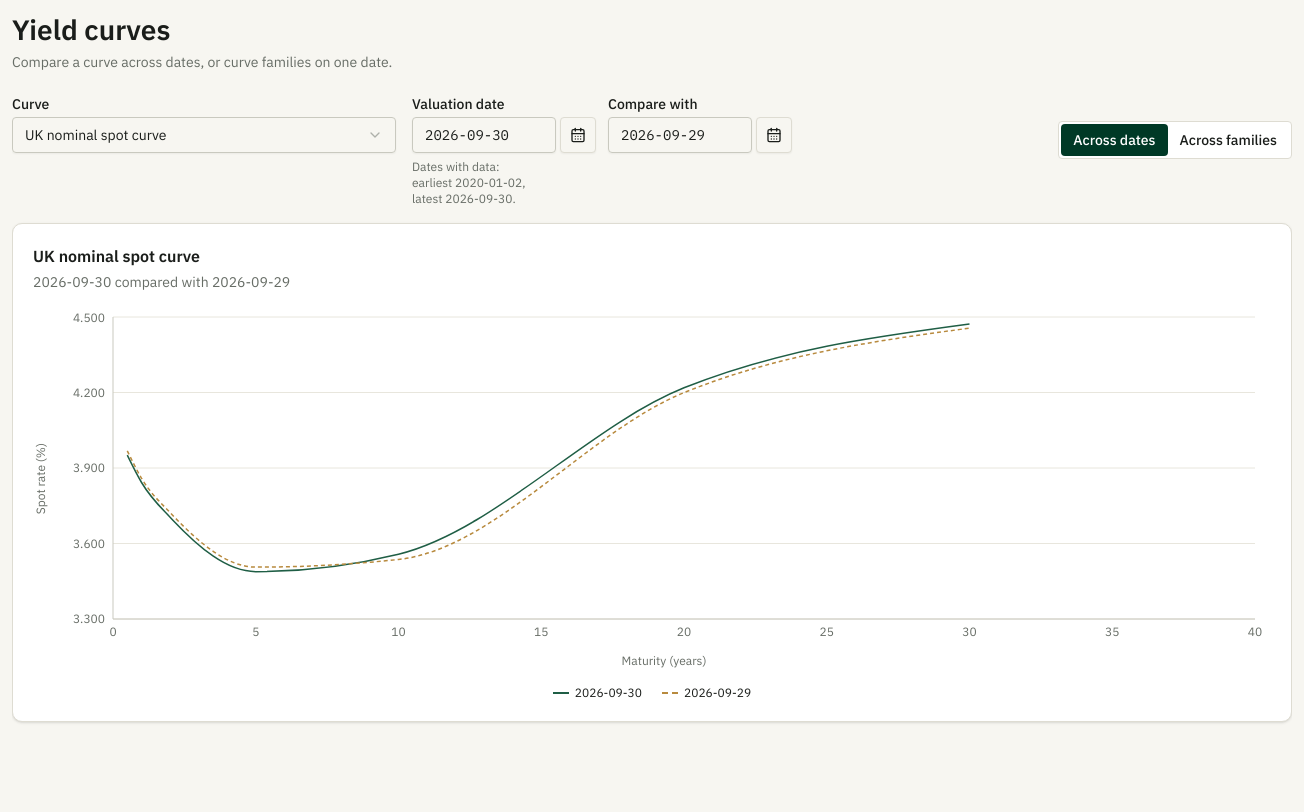
Test: Epic overview-and-yield-curves, Story 3: Yield curves across dates › draws only the valuation date curve when Compare with is cleared
Clear the field labelled "Compare with" at (680, 135), box x1=608 y1=117 x2=752 y2=153
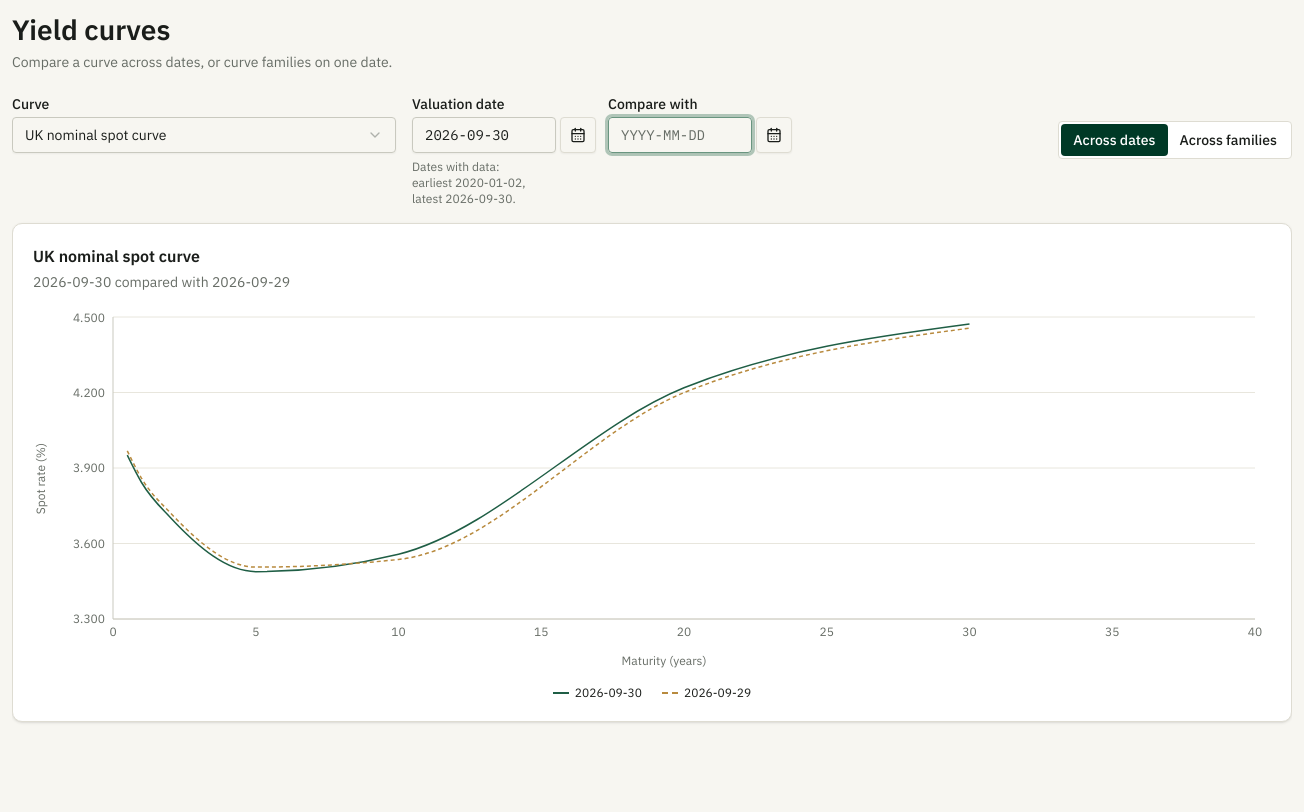
Press Tab
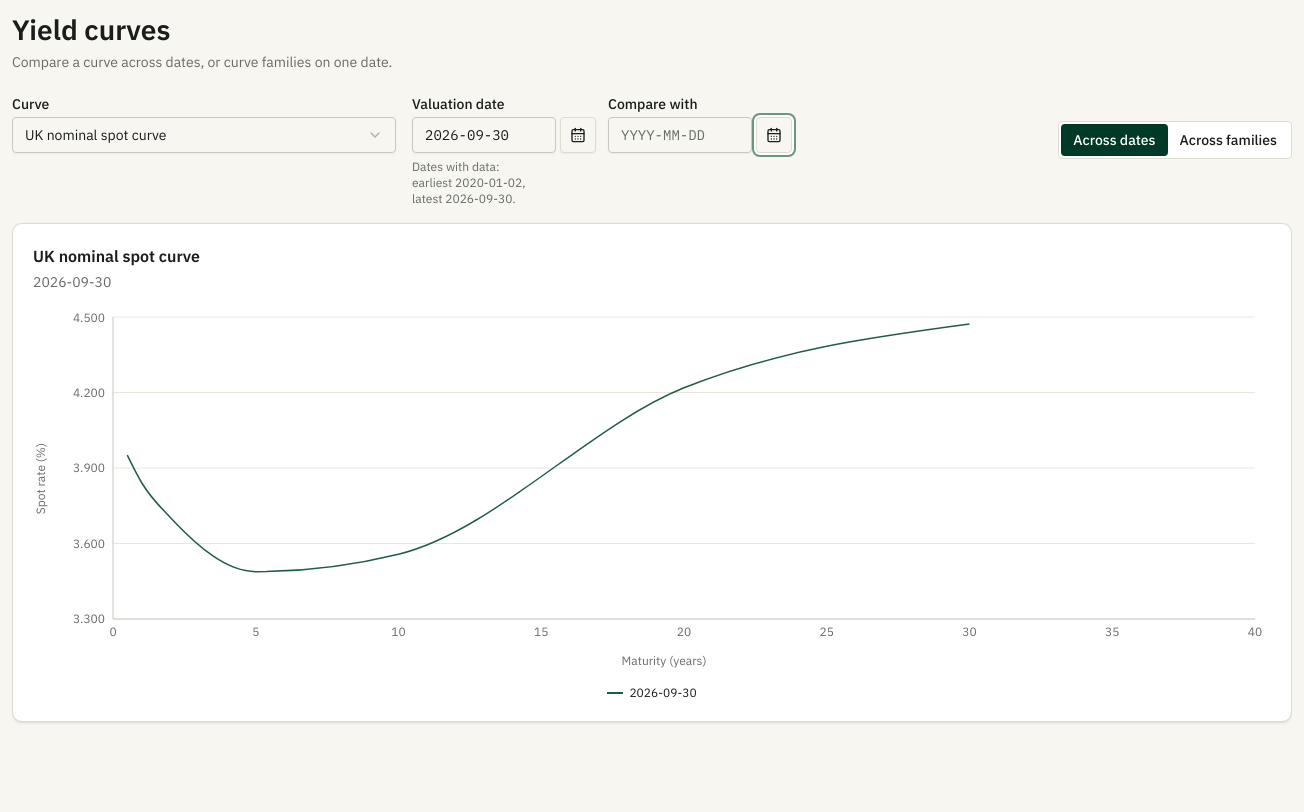
Now the text "compared with" is gone
